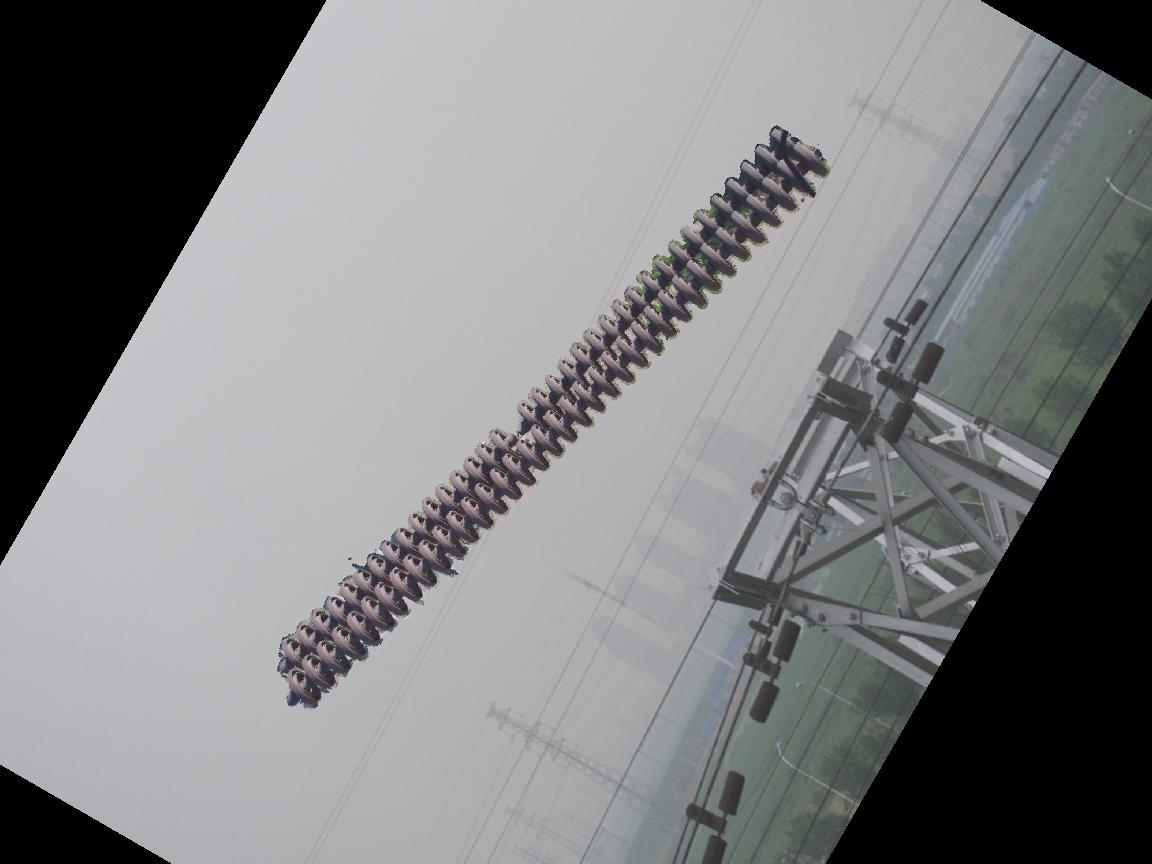insulator: (268, 117, 836, 714)
insulator_stringdrop: (486, 396, 546, 457)
